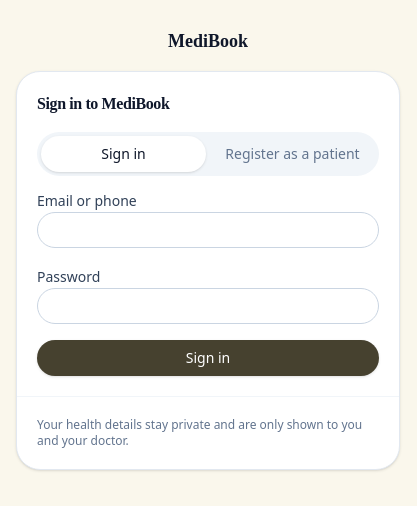
Test case: Login screen › [AC-005] shows one generic message on a 401, with no field hint
Step 1. Type "pat@x.com" into the field labelled "Email or phone" → (208, 230), box [37,212,379,248]
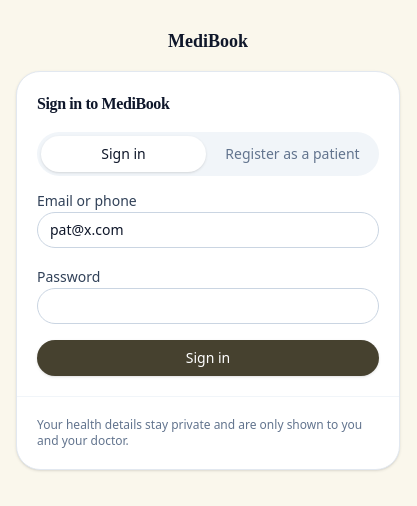
Step 2. Type "wrong-pass1" into the password field labelled "Password" → (208, 306), box [37,288,379,324]
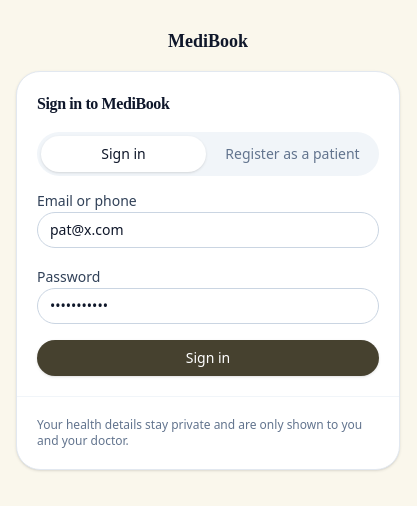
Step 3. Click the button "Sign in" → click(208, 358), box [37,340,379,376]
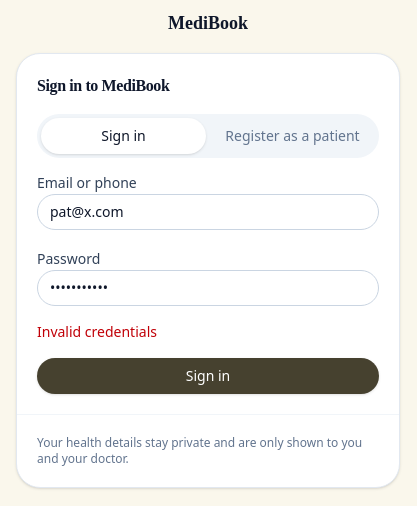
Expected: the message reads "Invalid credentials", [37,322,157,340]
